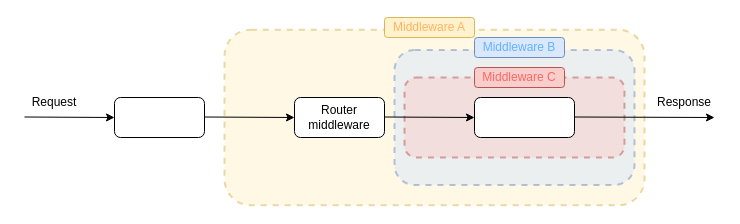
Some shapes in this 740 by 224 pixel diagram are drawn without their labels. Here are the shapes that lost their labels. From the top down, the box of each, then its label:
(114, 96, 204, 138): Zpracování a validace vstupu
(474, 96, 574, 138): Handler a validace výstupu
